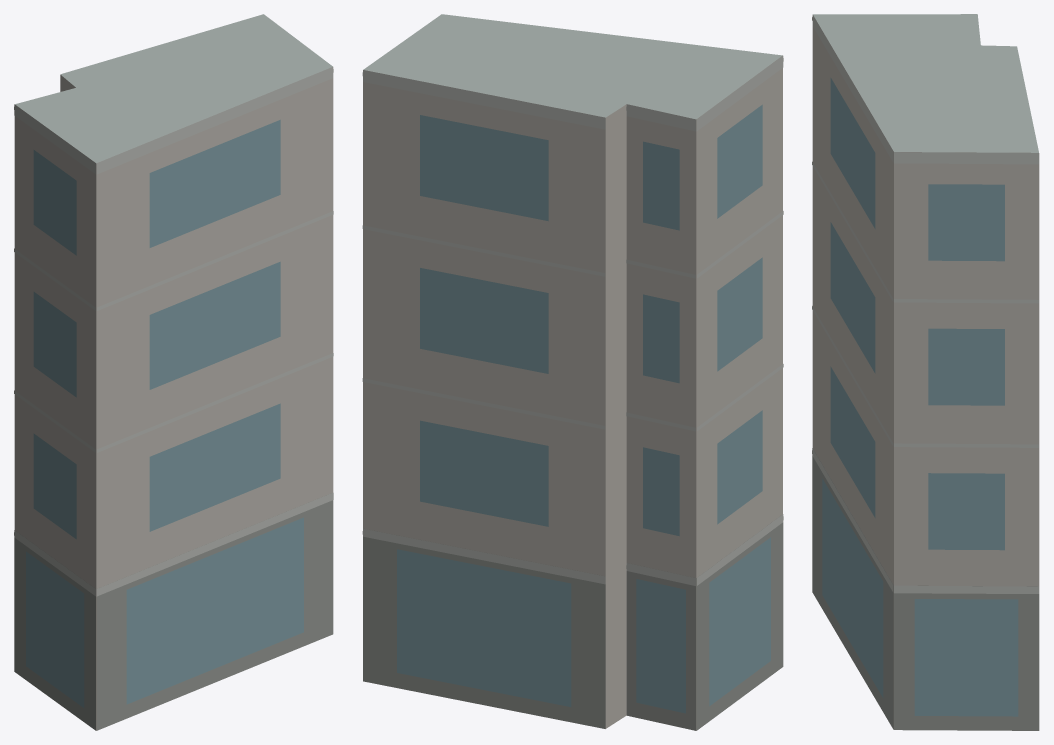
File: survey-upis-32956079.glb
The picture shows the model from 3 angles, left to right: view 1: azimuth 30°, elevation 25°; view 2: azimuth 150°, elevation 25°; view 3: azimuth 270°, elevation 25°; orthographic projection. The views are drawn at different scales.
Visible parts, largest first — view 1: survey-upis-32956079.tmp; view 2: survey-upis-32956079.tmp; view 3: survey-upis-32956079.tmp.
Part boxes in pixels (<box>): survey-upis-32956079.tmp: <box>14,14,333,730</box>; survey-upis-32956079.tmp: <box>362,14,783,730</box>; survey-upis-32956079.tmp: <box>812,14,1039,730</box>.
Bounding box in the file's own units: 6.31 × 12.2 × 4.36.
